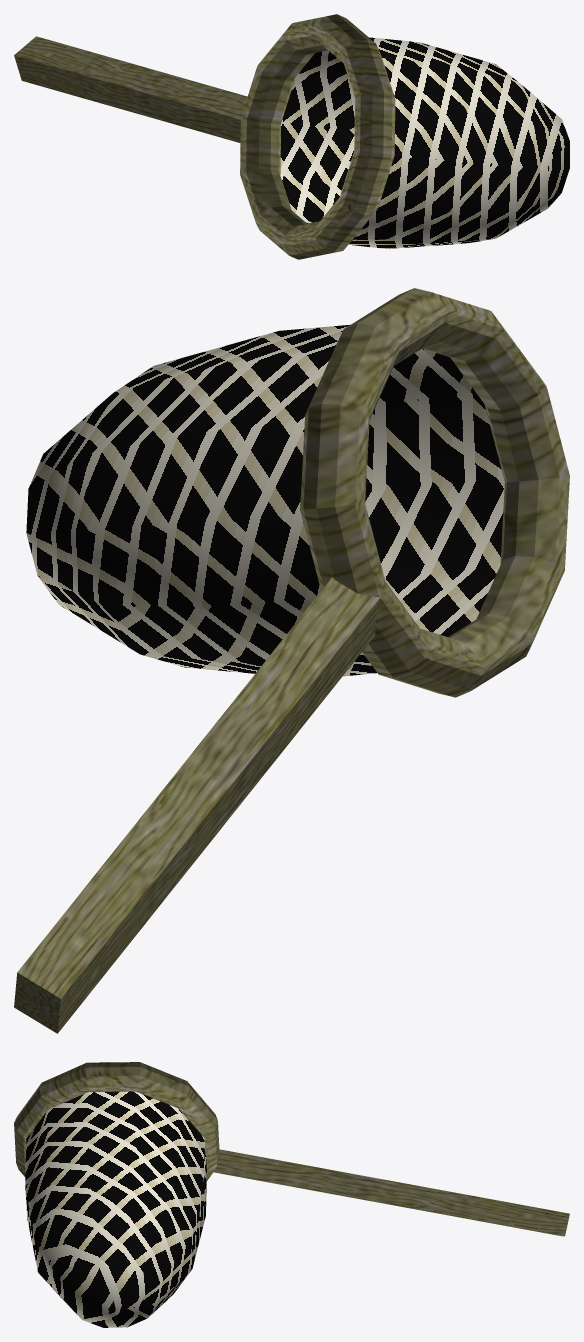
Rendered from net.obj.
3 renders of one model, top to bottom at view 1: azimuth 30°, elevation 25°; view 2: azimuth 150°, elevation 25°; view 3: azimuth 270°, elevation 25°, orthographic. The views are drawn at different scales.
Parts seen in each view (by area): view 1: Sphere02, Torus01, Box01; view 2: Sphere02, Torus01, Box01; view 3: Sphere02, Box01, Torus01.
Part boxes in pixels (x1,y1,x2,y2): Sphere02: (280,37,569,248); Torus01: (240,14,395,259); Box01: (14,36,247,142); Sphere02: (26,324,504,676); Torus01: (300,288,569,697); Box01: (14,577,380,1033); Sphere02: (25,1091,206,1327); Box01: (212,1149,569,1236); Torus01: (14,1062,219,1181).
Bounding box in the file's own units: 20.56 × 16.12 × 40.45.
